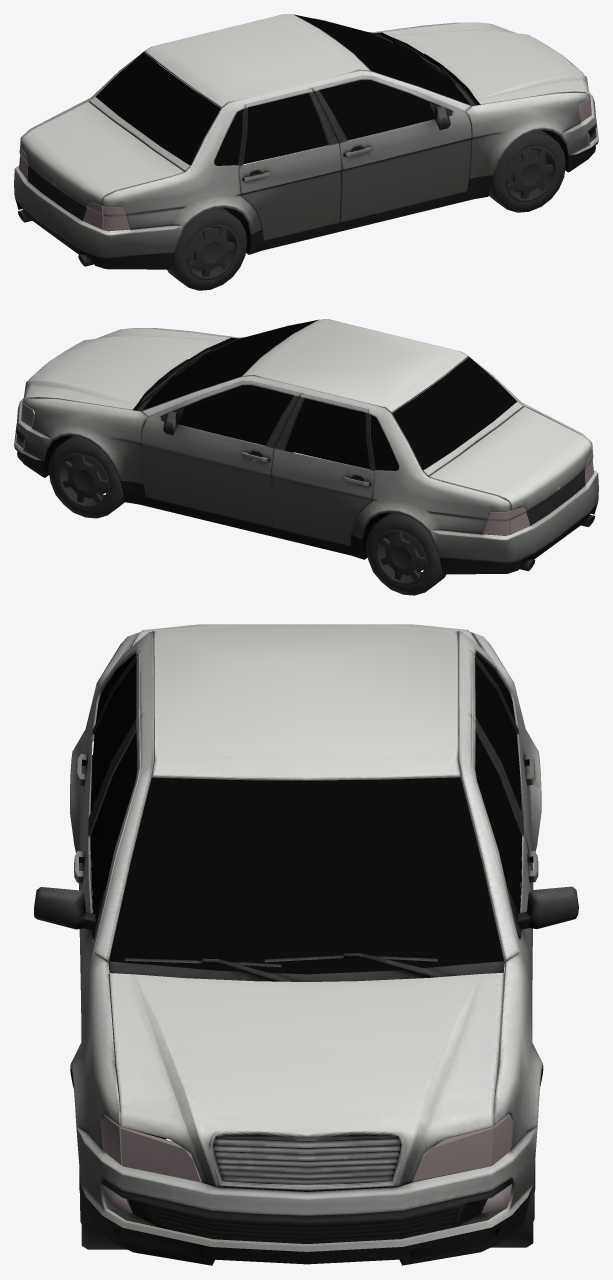
The model's file is pc-sedan-white.lod0.glb.
The picture shows the model from 3 angles, top to bottom: view 1: azimuth 30°, elevation 25°; view 2: azimuth 150°, elevation 25°; view 3: azimuth 270°, elevation 25°; orthographic projection. The views are drawn at different scales.
Visible parts, largest first — view 1: Sedan Body_Body_0, Sedan Body_Glass_0; view 2: Sedan Body_Body_0, Sedan Body_Glass_0; view 3: Sedan Body_Body_0, Sedan Body_Glass_0.
Boxes of the visible parts, x1,y1,x2,y2 form: Sedan Body_Body_0: (14, 14, 598, 269); Sedan Body_Glass_0: (19, 14, 591, 290); Sedan Body_Body_0: (14, 319, 598, 574); Sedan Body_Glass_0: (21, 320, 593, 595); Sedan Body_Body_0: (34, 624, 578, 1265); Sedan Body_Glass_0: (79, 653, 535, 1249).
Size of the model in its own units: 4.36 by 1.34 by 1.94.
2 materials, 1 textured.
